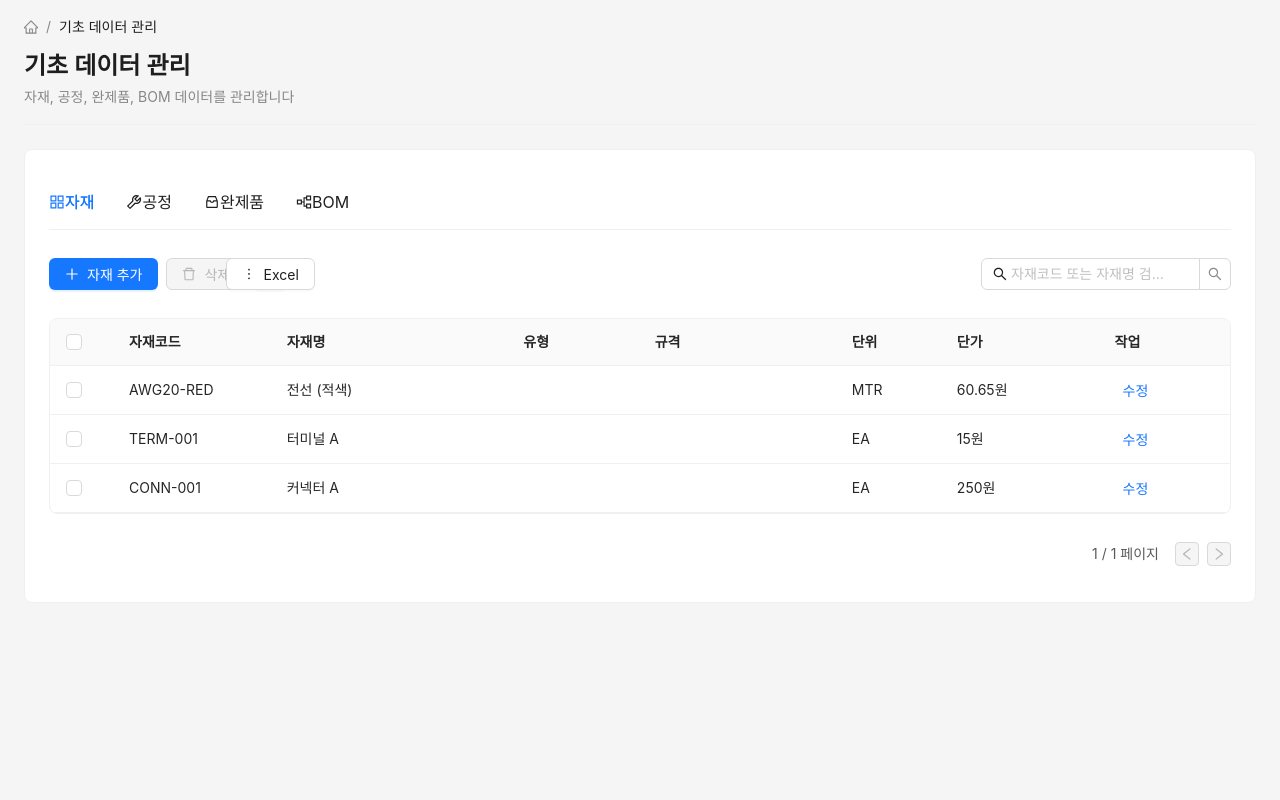
Test: MasterDataPage › Material Tab › should open form modal on add button click
The width and height of the screenshot is (1280, 800).
Click the button "자재 추가": (104, 274) [49,258,158,290]
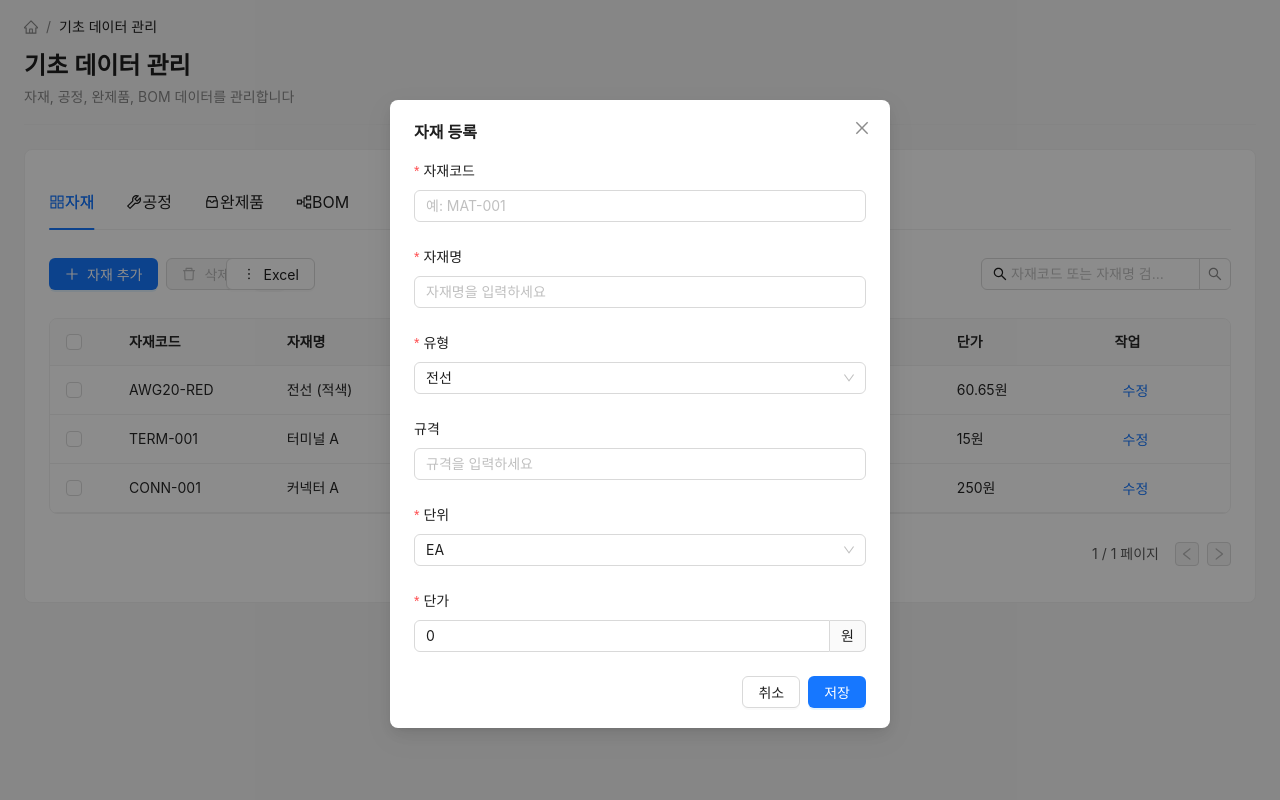
Expected: the dialog is shown, [390,100,890,752]
